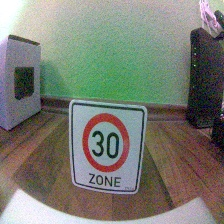dreisiger_zone: (67, 100, 146, 195)
